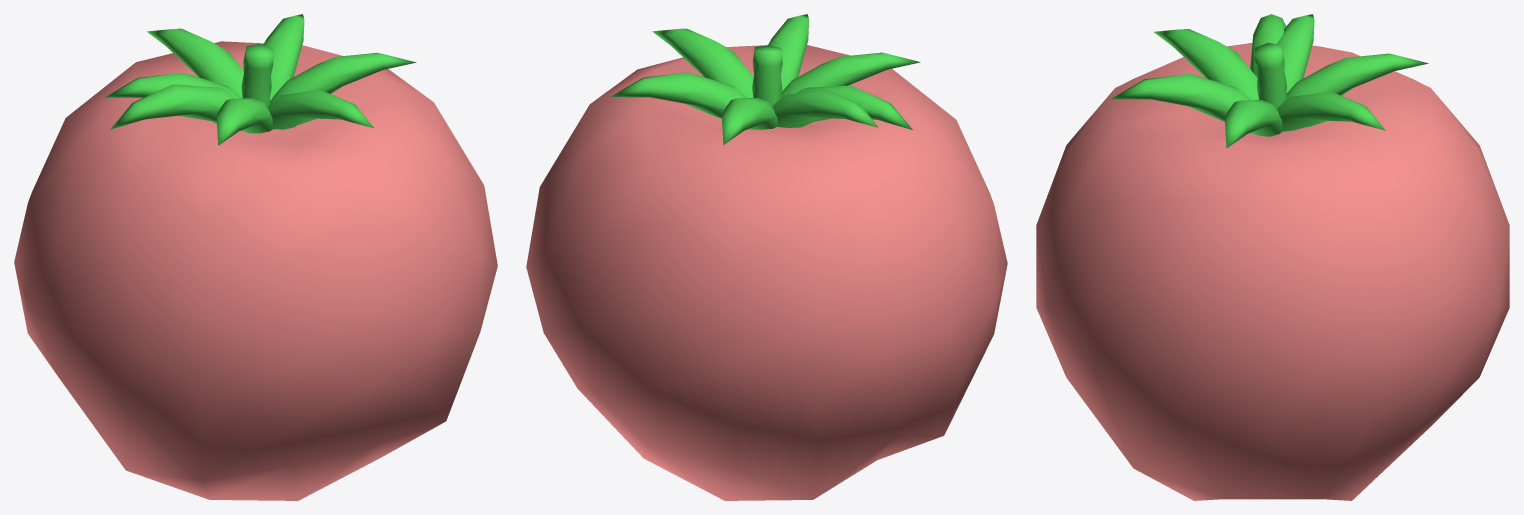
The model's file is tomato.glb.
The picture shows the model from 3 angles, left to right: view 1: azimuth 30°, elevation 25°; view 2: azimuth 150°, elevation 25°; view 3: azimuth 270°, elevation 25°; orthographic projection. The views are drawn at different scales.
Visible parts, largest first — view 1: node-0; view 2: node-0; view 3: node-0.
Part boxes in pixels (left/top/right/bottom): node-0: left=14, top=14, right=497, bottom=500; node-0: left=526, top=14, right=1007, bottom=500; node-0: left=1036, top=14, right=1509, bottom=500.
Size of the model in its own units: 226 by 220 by 219.
